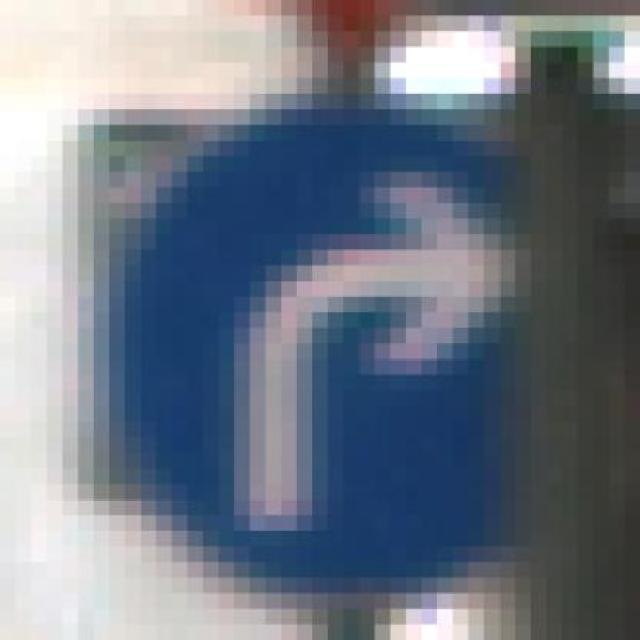Turn right ahead: (93, 93, 593, 593)
